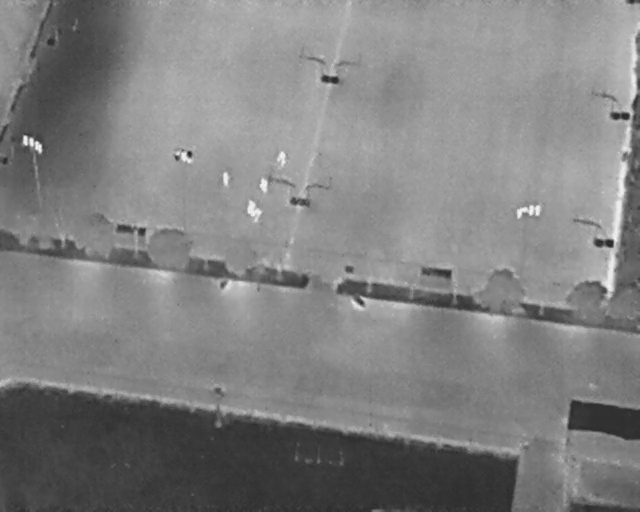Person: (277, 150, 287, 168), (253, 208, 263, 223), (248, 199, 256, 216), (221, 172, 230, 186), (259, 177, 265, 190), (263, 179, 268, 193)
